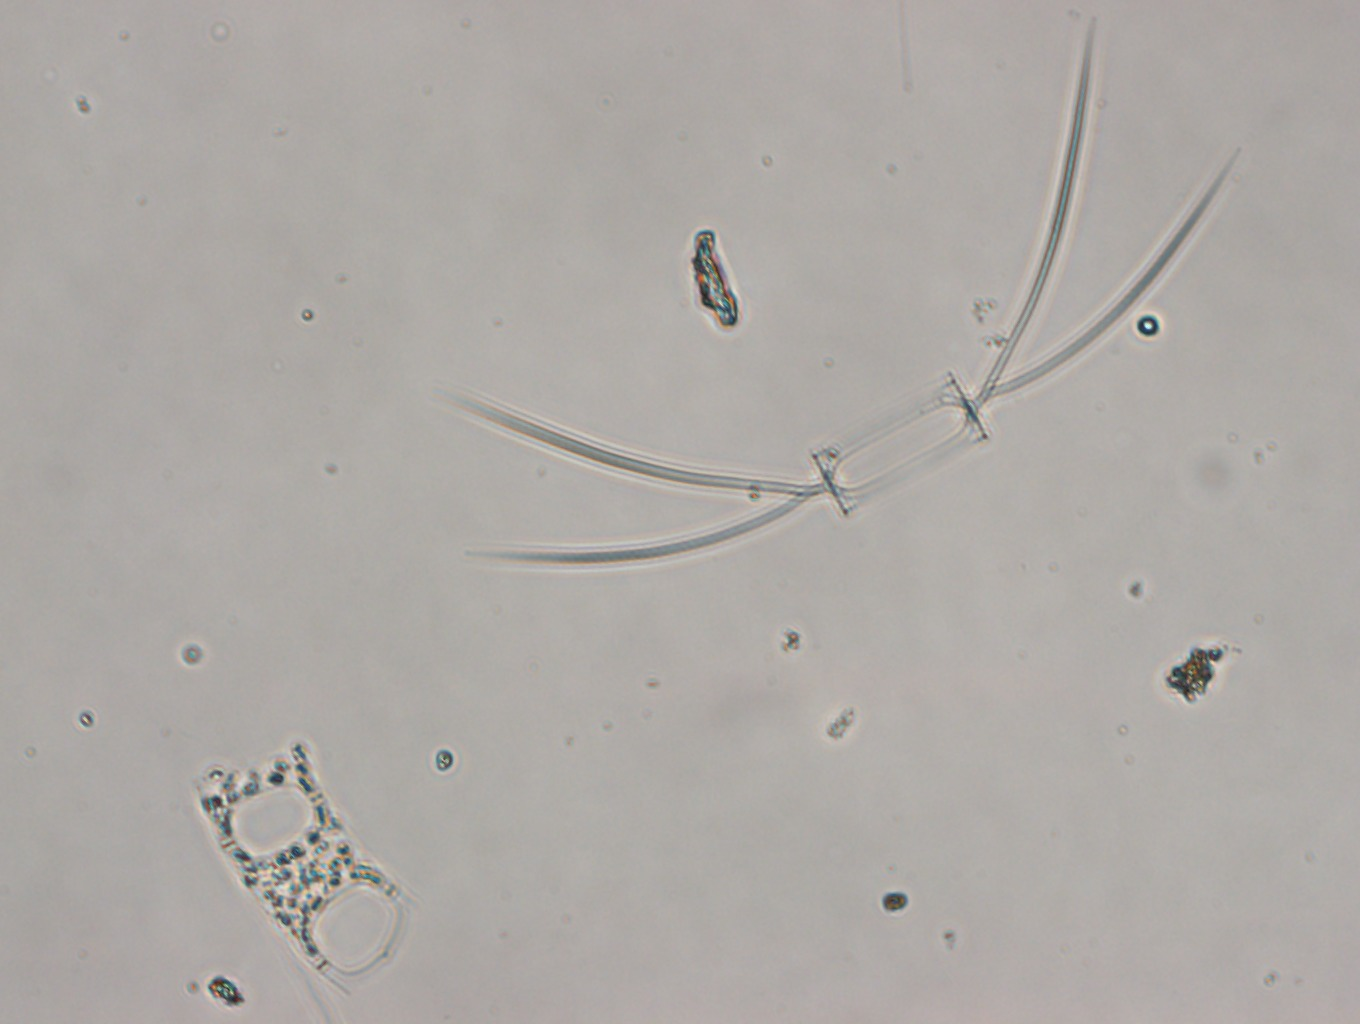chaetoceros: (431, 13, 1240, 567)
eucampia: (190, 740, 428, 1000)
